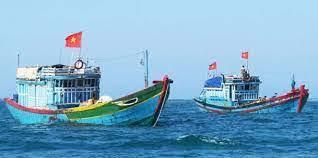Ship: (5, 59, 172, 126), (195, 59, 310, 114)
